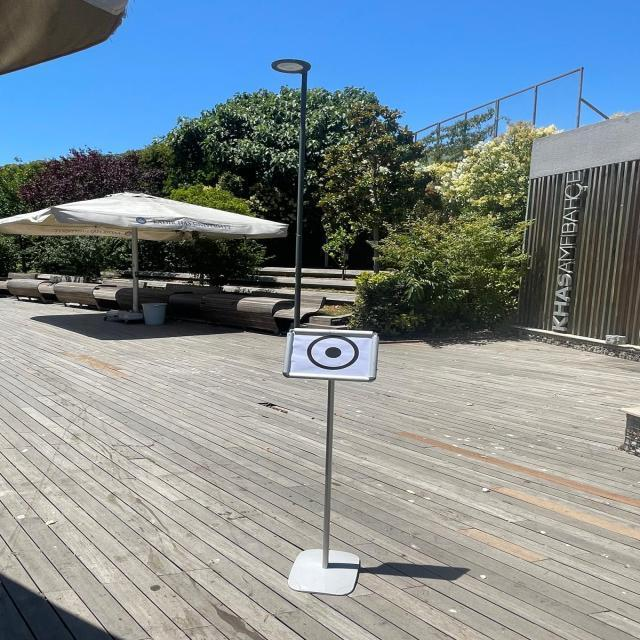Target: (278, 312, 387, 394)
inner: (320, 341, 346, 362)
